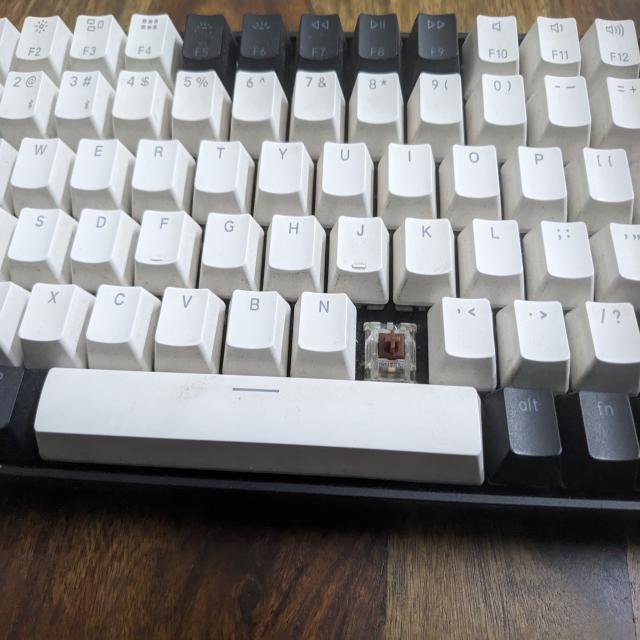key-switch: (360, 313, 420, 380)
